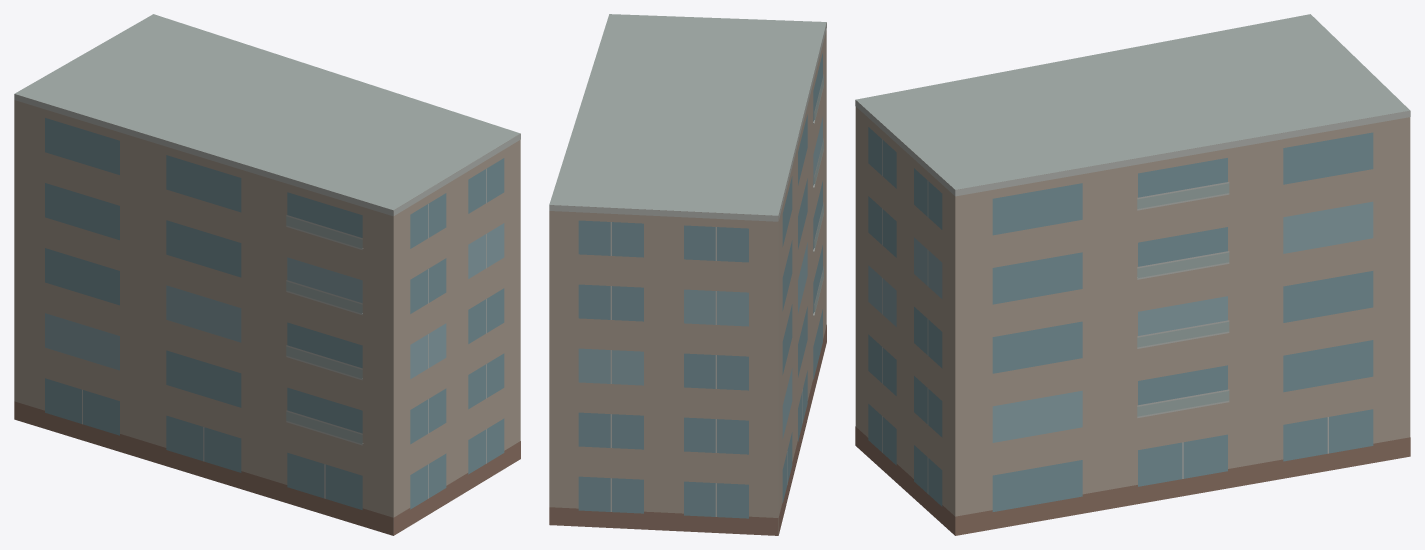
Rendered from survey-upis-32593374.glb.
3 views of the same model, side by side, from view 1: azimuth 30°, elevation 25°; view 2: azimuth 150°, elevation 25°; view 3: azimuth 270°, elevation 25° (orthographic). The views are drawn at different scales.
Parts seen in each view (by area): view 1: survey-upis-32593374.tmp; view 2: survey-upis-32593374.tmp; view 3: survey-upis-32593374.tmp.
Boxes of the visible parts, x1,y1,x2,y2 form: survey-upis-32593374.tmp: (14,14,520,535); survey-upis-32593374.tmp: (549,14,826,535); survey-upis-32593374.tmp: (855,14,1410,535).
Size of the model in its own units: 14.19 by 13 by 18.91.
